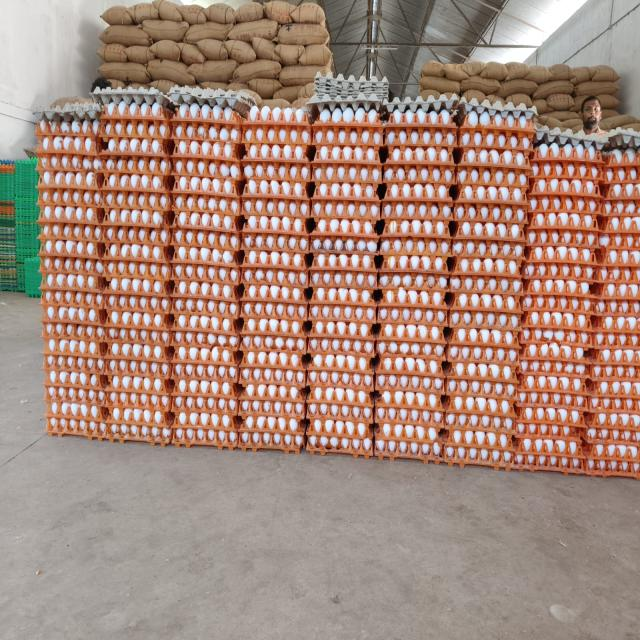egg_tray: (307, 107, 382, 457), (36, 121, 106, 436), (238, 154, 310, 452), (583, 149, 640, 477), (376, 215, 450, 461), (375, 219, 450, 461), (239, 199, 308, 451), (172, 193, 240, 447), (452, 110, 532, 290), (307, 253, 377, 457), (307, 254, 376, 456), (522, 179, 600, 347), (375, 283, 446, 461), (376, 282, 445, 461), (105, 260, 172, 444), (101, 102, 170, 280), (238, 284, 307, 452), (172, 279, 240, 447), (238, 285, 306, 452), (239, 283, 306, 452), (36, 121, 102, 290), (523, 142, 602, 283), (241, 188, 309, 348), (40, 207, 104, 373), (516, 330, 589, 473), (311, 107, 382, 253), (445, 326, 518, 467), (102, 191, 172, 338), (452, 149, 530, 277), (36, 121, 101, 274), (41, 290, 108, 438), (379, 145, 454, 274), (41, 288, 106, 435), (515, 347, 588, 473), (522, 198, 598, 318), (522, 211, 598, 330), (106, 311, 173, 445), (239, 301, 306, 431), (171, 228, 240, 348), (443, 357, 517, 468), (443, 359, 517, 469), (171, 214, 241, 330), (171, 101, 243, 210), (171, 331, 238, 448), (445, 326, 520, 430), (105, 277, 172, 392), (241, 181, 310, 291), (39, 206, 104, 322), (103, 170, 171, 280), (171, 195, 242, 299), (241, 181, 309, 289), (583, 348, 640, 476), (308, 253, 377, 358), (308, 253, 377, 357), (306, 354, 374, 458), (306, 353, 374, 457), (378, 184, 452, 279), (583, 349, 640, 472), (238, 350, 306, 452), (447, 283, 519, 379), (103, 189, 171, 290), (384, 106, 457, 199), (171, 347, 238, 448), (376, 264, 448, 357), (521, 279, 592, 373), (518, 336, 590, 428), (43, 333, 106, 436), (172, 103, 242, 195), (100, 102, 170, 193), (447, 275, 521, 361), (242, 107, 312, 197), (171, 207, 241, 297), (451, 194, 526, 278), (376, 274, 447, 361), (240, 265, 308, 355), (242, 179, 310, 268), (240, 266, 308, 354), (518, 328, 589, 412), (102, 155, 171, 239), (518, 332, 590, 412), (39, 204, 104, 292), (530, 147, 602, 226), (583, 378, 640, 477), (519, 332, 590, 411), (599, 149, 640, 283), (40, 288, 105, 372), (600, 150, 640, 284), (40, 281, 105, 362), (104, 262, 172, 339), (103, 204, 171, 281), (384, 112, 456, 184), (443, 397, 514, 469), (311, 181, 380, 253), (44, 362, 108, 439), (376, 324, 446, 394), (311, 183, 380, 254), (171, 124, 242, 193), (311, 182, 380, 253), (171, 278, 239, 349), (309, 284, 376, 356), (240, 281, 307, 352), (106, 374, 173, 445), (592, 281, 640, 380), (590, 333, 640, 428), (104, 276, 172, 345), (39, 206, 103, 277), (385, 109, 457, 170), (374, 399, 442, 463), (456, 144, 532, 201), (451, 220, 525, 278), (101, 101, 171, 160), (385, 105, 457, 161), (522, 291, 592, 348), (514, 417, 584, 474), (312, 141, 382, 198), (242, 106, 313, 162), (530, 140, 603, 194), (101, 100, 171, 156), (379, 219, 451, 273), (592, 298, 640, 379), (242, 156, 310, 213), (522, 241, 597, 292), (450, 192, 529, 240), (307, 381, 374, 437), (526, 195, 599, 246), (101, 151, 168, 206), (530, 178, 601, 229), (529, 179, 601, 229), (446, 361, 518, 410), (313, 145, 382, 196), (106, 394, 173, 446), (312, 105, 383, 154), (36, 119, 101, 172), (311, 185, 380, 234), (458, 109, 534, 153), (38, 166, 101, 219), (236, 405, 305, 453), (449, 284, 522, 328), (593, 283, 640, 351), (378, 281, 447, 327), (172, 102, 244, 146), (456, 147, 532, 188), (453, 184, 528, 225), (445, 292, 521, 332), (378, 183, 453, 223), (172, 171, 241, 214), (380, 182, 453, 222), (442, 429, 513, 470), (106, 335, 172, 379), (242, 213, 310, 255), (384, 148, 455, 188), (241, 145, 311, 185), (524, 212, 599, 249), (172, 156, 242, 195), (600, 199, 640, 267), (306, 418, 374, 458), (309, 253, 378, 292), (446, 328, 520, 364), (312, 73, 388, 108), (172, 196, 242, 234), (239, 283, 307, 322), (172, 410, 238, 449), (45, 399, 108, 439), (311, 217, 378, 254), (240, 351, 306, 388), (306, 353, 374, 388), (585, 438, 640, 478), (603, 148, 640, 199), (245, 111, 292, 151), (588, 379, 640, 414), (583, 412, 640, 443), (448, 273, 523, 296), (596, 252, 640, 284), (457, 293, 500, 308), (121, 170, 150, 189), (133, 159, 168, 174), (473, 418, 512, 429), (208, 160, 240, 172), (409, 110, 438, 122), (291, 126, 310, 140), (135, 342, 154, 356), (597, 283, 622, 292), (246, 257, 274, 265), (156, 154, 168, 167), (119, 343, 133, 354), (246, 420, 261, 429), (87, 363, 102, 372), (178, 237, 192, 246), (209, 125, 224, 133), (533, 148, 540, 165), (109, 195, 122, 204), (83, 216, 99, 223), (395, 111, 406, 121), (205, 266, 227, 271), (160, 397, 168, 410), (149, 358, 166, 364), (172, 158, 182, 168), (577, 237, 589, 245), (269, 206, 281, 213), (199, 125, 208, 134), (564, 363, 573, 372), (243, 340, 253, 348), (625, 285, 638, 291), (598, 356, 609, 363), (565, 238, 576, 245), (210, 267, 222, 273), (294, 187, 302, 196), (250, 184, 258, 193), (479, 319, 486, 329), (176, 324, 187, 330), (178, 147, 186, 155), (310, 311, 318, 319), (469, 279, 476, 288), (143, 318, 150, 327), (192, 213, 202, 219), (445, 406, 451, 416), (583, 148, 590, 155), (486, 311, 494, 317), (322, 185, 331, 190), (455, 311, 466, 315), (155, 228, 166, 232), (546, 149, 552, 156), (332, 191, 340, 196), (302, 271, 307, 279), (505, 296, 513, 301), (618, 296, 628, 300), (234, 202, 239, 210), (156, 297, 168, 300), (315, 234, 322, 239), (218, 216, 223, 223), (372, 156, 379, 161), (58, 276, 65, 281), (386, 187, 389, 198), (353, 190, 358, 196), (616, 382, 626, 385), (244, 342, 250, 347), (130, 227, 140, 230), (264, 206, 269, 212), (425, 281, 432, 285), (313, 162, 316, 171), (94, 228, 97, 237), (104, 185, 113, 188), (570, 147, 575, 152), (381, 281, 386, 286), (264, 325, 269, 330), (130, 296, 142, 298), (322, 191, 328, 195), (230, 268, 238, 271), (601, 287, 607, 291), (65, 372, 77, 374), (486, 288, 492, 292), (439, 135, 442, 142), (569, 285, 572, 292), (534, 285, 537, 292), (335, 259, 340, 263), (356, 185, 360, 190), (334, 186, 338, 191), (118, 355, 123, 359), (160, 347, 165, 351), (507, 356, 511, 361), (559, 256, 564, 260), (638, 194, 640, 203), (386, 132, 389, 138), (198, 160, 204, 163), (599, 308, 605, 311), (604, 254, 607, 260), (345, 255, 353, 257), (56, 312, 60, 316), (226, 290, 230, 294), (234, 267, 238, 271), (401, 114, 405, 118), (572, 149, 576, 153), (401, 133, 404, 138), (280, 210, 285, 213), (178, 307, 183, 310), (393, 194, 398, 197), (146, 285, 151, 288), (414, 114, 417, 119), (614, 334, 619, 337), (122, 307, 129, 309), (457, 228, 461, 231), (595, 151, 599, 154), (417, 398, 421, 401), (446, 114, 448, 120), (470, 313, 473, 317), (611, 359, 614, 363), (186, 161, 190, 164), (135, 163, 137, 169), (284, 182, 288, 185), (559, 410, 562, 414), (45, 276, 48, 280), (473, 356, 477, 359), (76, 387, 80, 390), (478, 290, 484, 292), (410, 336, 414, 339), (381, 331, 385, 334), (479, 187, 483, 190), (392, 192, 396, 195), (131, 389, 134, 393), (271, 153, 276, 155), (415, 132, 417, 137), (184, 308, 189, 310), (74, 331, 79, 333), (501, 401, 506, 403), (353, 259, 356, 262), (231, 127, 234, 130), (277, 150, 280, 153), (289, 131, 292, 134), (391, 134, 394, 137), (625, 374, 628, 377), (598, 288, 601, 291), (115, 305, 118, 308), (281, 426, 284, 429), (110, 169, 113, 172), (312, 380, 315, 383), (437, 209, 440, 212), (548, 316, 550, 320), (468, 292, 472, 294), (427, 193, 429, 197), (470, 278, 472, 282), (50, 292, 52, 296), (628, 381, 632, 383), (177, 223, 179, 227), (45, 328, 47, 332), (250, 180, 254, 182), (389, 333, 391, 337), (260, 224, 264, 226), (404, 185, 408, 187), (152, 403, 156, 405), (335, 188, 338, 190), (369, 185, 372, 187), (584, 150, 587, 152), (256, 343, 258, 346), (427, 185, 430, 187), (480, 312, 482, 315), (182, 167, 184, 170), (143, 163, 146, 165), (159, 354, 161, 357), (146, 228, 149, 230), (50, 361, 53, 363), (256, 296, 259, 298), (56, 372, 62, 373), (534, 252, 535, 258), (318, 381, 321, 383), (520, 430, 523, 432), (416, 201, 419, 203), (441, 185, 443, 188), (165, 406, 168, 408), (211, 326, 216, 327), (67, 325, 68, 330), (82, 281, 83, 286), (498, 416, 503, 417), (117, 159, 119, 161), (552, 189, 556, 190), (541, 189, 545, 190), (302, 119, 304, 121), (450, 140, 452, 142), (444, 135, 446, 137), (306, 213, 308, 215), (286, 206, 288, 208), (515, 298, 517, 300), (545, 281, 549, 282), (624, 468, 626, 470), (156, 323, 158, 325), (620, 153, 622, 155), (552, 409, 556, 410), (550, 409, 552, 411), (306, 166, 308, 168), (232, 267, 234, 269), (512, 302, 514, 304), (301, 301, 303, 303), (70, 339, 72, 341), (569, 257, 571, 259), (252, 285, 255, 286), (461, 389, 464, 390), (184, 167, 185, 170), (137, 158, 140, 159), (143, 287, 144, 290), (637, 154, 640, 155), (45, 325, 46, 328), (482, 356, 485, 357), (252, 294, 253, 297), (529, 252, 530, 255), (623, 278, 626, 279), (129, 302, 130, 304), (130, 262, 131, 264), (253, 323, 254, 325), (558, 404, 560, 405), (618, 469, 620, 470), (69, 331, 71, 332), (514, 291, 516, 292), (312, 444, 313, 446), (629, 391, 630, 393), (136, 302, 137, 303), (467, 293, 468, 294), (556, 412, 557, 413), (374, 169, 375, 170), (474, 194, 475, 195), (447, 194, 448, 195), (108, 160, 108, 163), (108, 313, 108, 315), (554, 198, 554, 199), (366, 227, 368, 227), (204, 154, 208, 154), (604, 274, 606, 274), (550, 354, 550, 355), (539, 349, 539, 350), (552, 145, 552, 146), (554, 143, 554, 143), (461, 374, 462, 374), (388, 139, 388, 142), (392, 115, 392, 118), (410, 112, 410, 113), (443, 285, 446, 285), (178, 142, 178, 143), (388, 186, 388, 188), (545, 336, 546, 336), (620, 287, 622, 287), (108, 160, 108, 162), (130, 361, 130, 361), (112, 176, 112, 177), (265, 443, 267, 443), (290, 426, 290, 426), (52, 282, 52, 284), (496, 302, 496, 304), (303, 401, 303, 403), (462, 283, 463, 283), (548, 222, 548, 224), (430, 212, 430, 212), (402, 194, 408, 194), (632, 404, 632, 406), (630, 389, 630, 391), (250, 146, 250, 147)
